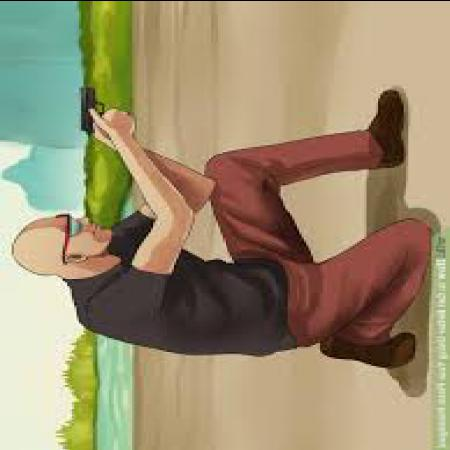Pistol: (74, 83, 125, 146)
